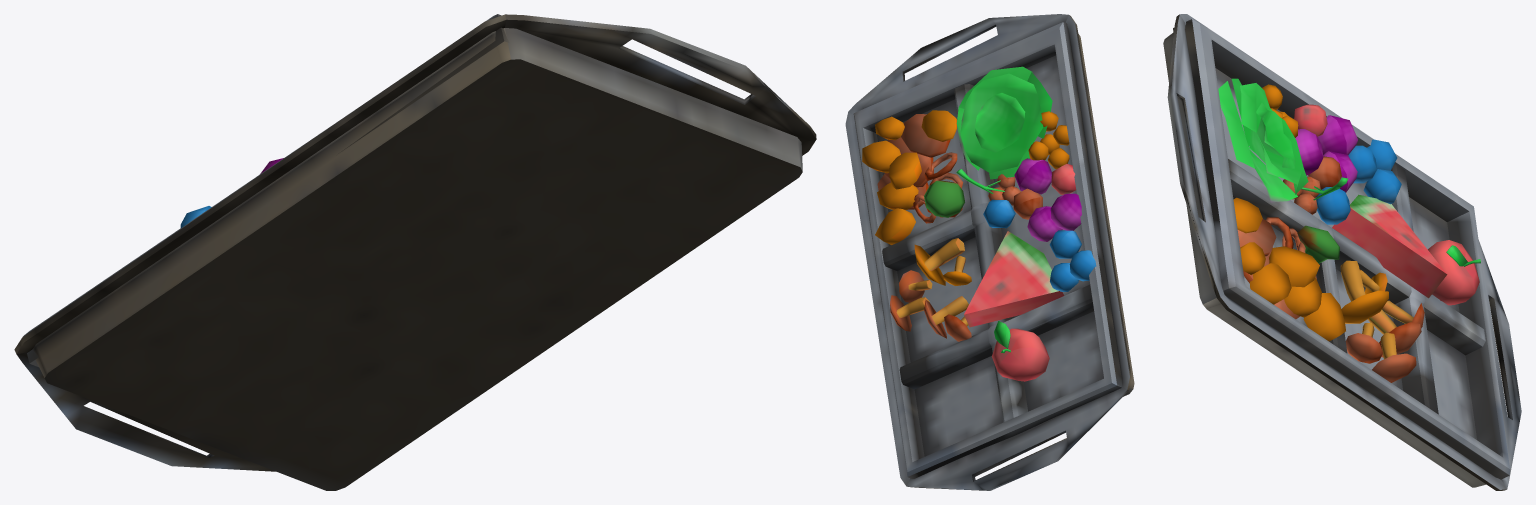
Rendered from H_MessTray_Fruit.fbx.
The picture shows the model from 3 angles, left to right: view 1: azimuth 30°, elevation 25°; view 2: azimuth 150°, elevation 25°; view 3: azimuth 270°, elevation 25°; orthographic projection. The views are drawn at different scales.
Parts seen in each view (by area): view 1: MessTray.001; view 2: MessTray.001; view 3: MessTray.001.
Boxes of the visible parts, x1=… form: MessTray.001: x1=14, y1=14, x2=816, y2=490; MessTray.001: x1=845, y1=14, x2=1134, y2=490; MessTray.001: x1=1163, y1=14, x2=1521, y2=490.
Bounding box in the file's own units: 72.25 × 69.06 × 48.63.
